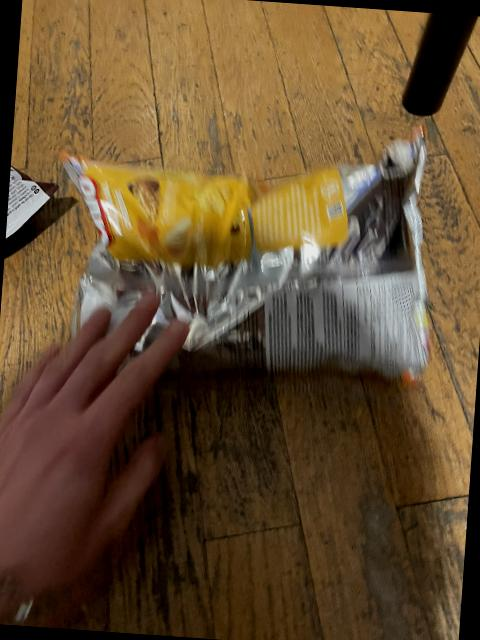Chio Cascaval 125g: (55, 113, 436, 388)
